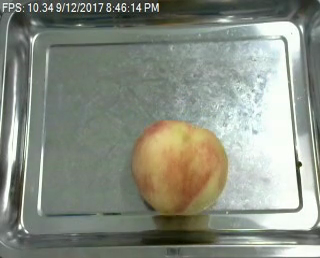Peach: (130, 120, 228, 214)
